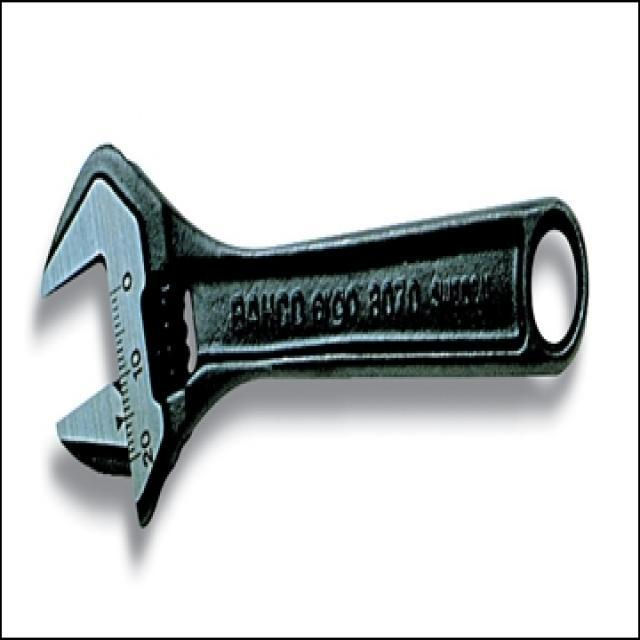wrench: (37, 136, 595, 536)
